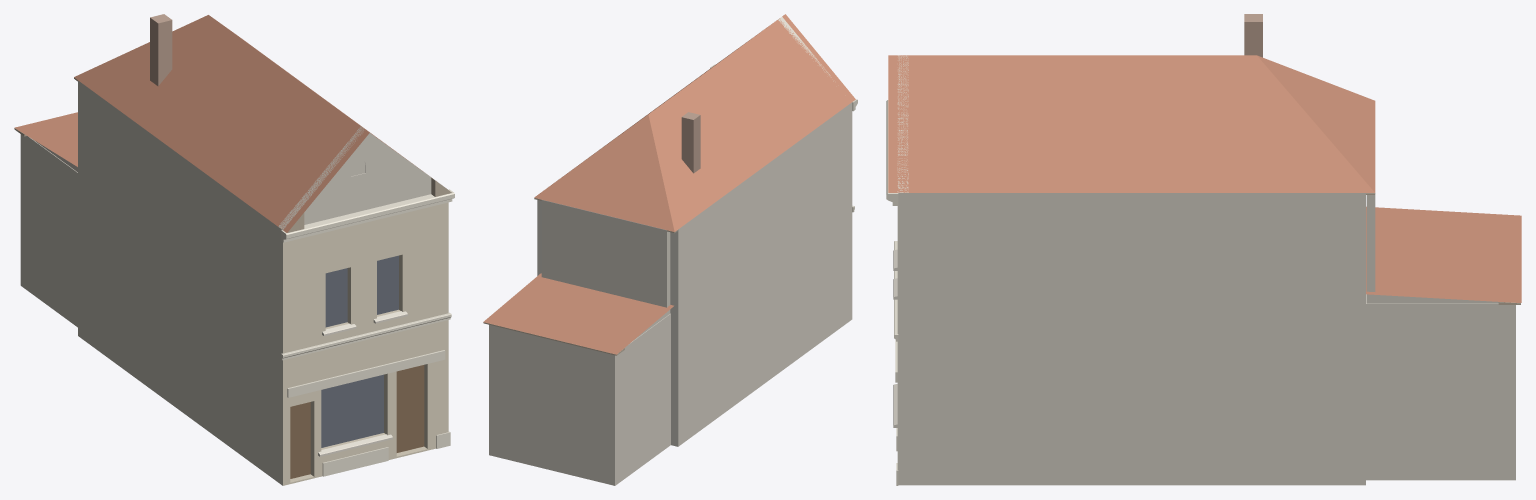
3 views of the same model, side by side, from view 1: azimuth 30°, elevation 25°; view 2: azimuth 150°, elevation 25°; view 3: azimuth 270°, elevation 25° (orthographic). The views are drawn at different scales.
Parts seen in each view (by area): view 1: CP_495_Masonry, CP_495_Roof, CP_495_Rear_Wing, CP_495_Gable_F_gable, CP_495_Cornice_main_0, CP_495_WingRoof_Rear, CP_495_Cornice_sign_0, CP_495_Chimney_0, CP_495_Cornice_string_0, CP_495_Cornice_plinth_0, CP_495_Sill_S1; view 2: CP_495_Masonry, CP_495_Roof, CP_495_Rear_Wing, CP_495_AtticClosure_1, CP_495_WingRoof_Rear, CP_495_Chimney_0; view 3: CP_495_Masonry, CP_495_Roof, CP_495_Rear_Wing, CP_495_WingRoof_Rear, CP_495_AtticClosure_1, CP_495_Chimney_0, CP_495_Gable_F_gable.
Boxes of the visible parts, box(x1,y1,x2,y2) form: CP_495_Masonry: box(78, 80, 448, 485); CP_495_Roof: box(74, 15, 432, 232); CP_495_Rear_Wing: box(20, 134, 77, 327); CP_495_Gable_F_gable: box(278, 126, 447, 229); CP_495_Cornice_main_0: box(281, 189, 454, 242); CP_495_WingRoof_Rear: box(14, 112, 77, 166); CP_495_Cornice_sign_0: box(287, 350, 445, 397); CP_495_Chimney_0: box(150, 14, 172, 85); CP_495_Cornice_string_0: box(281, 312, 451, 360); CP_495_Cornice_plinth_0: box(322, 447, 388, 476); CP_495_Sill_S1: box(318, 434, 392, 456); CP_495_Masonry: box(537, 102, 852, 446); CP_495_Roof: box(534, 14, 855, 231); CP_495_Rear_Wing: box(489, 313, 670, 485); CP_495_AtticClosure_1: box(541, 200, 670, 340); CP_495_WingRoof_Rear: box(483, 273, 673, 354); CP_495_Chimney_0: box(681, 112, 700, 173); CP_495_Masonry: box(897, 193, 1365, 485); CP_495_Roof: box(888, 55, 1375, 192); CP_495_Rear_Wing: box(1366, 294, 1515, 480); CP_495_WingRoof_Rear: box(1366, 206, 1521, 302); CP_495_AtticClosure_1: box(1366, 195, 1498, 303); CP_495_Chimney_0: box(1244, 14, 1262, 57); CP_495_Gable_F_gable: box(897, 55, 908, 192).
Bounding box in the file's own units: 5.93 × 11.6 × 16.95.
